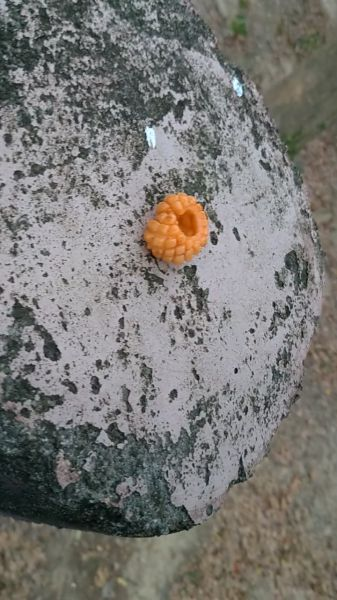eggs: (139, 187, 216, 268)
